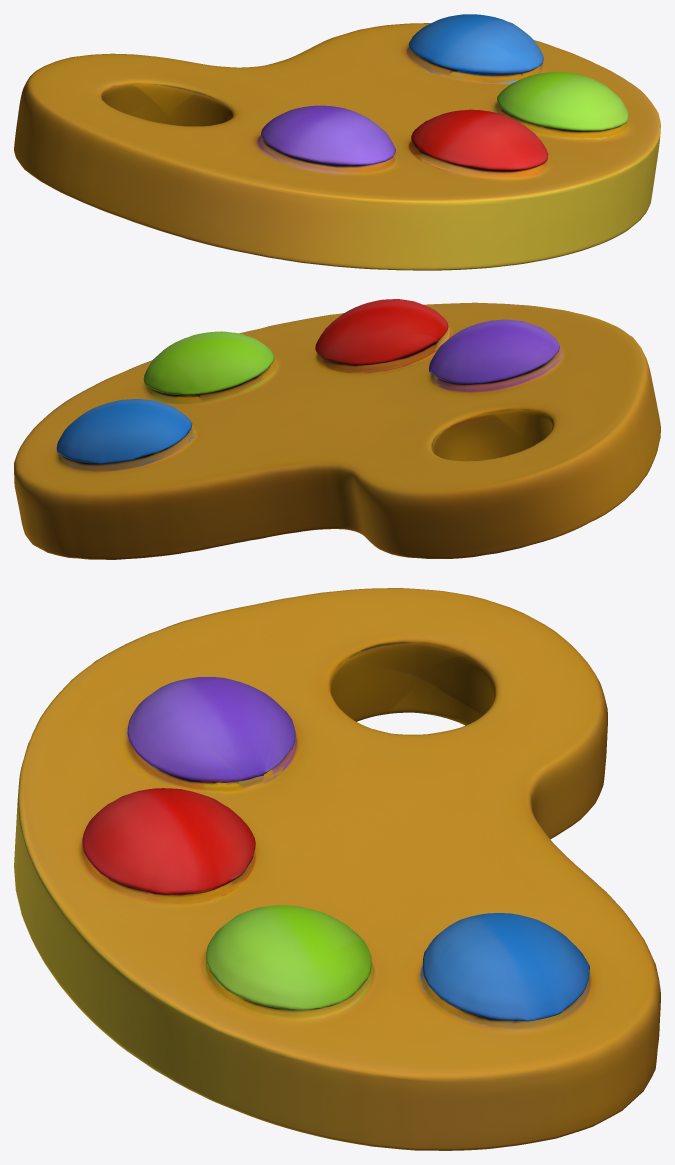
File: Paint Pallete.fbx
3 renders of one model, top to bottom at view 1: azimuth 30°, elevation 25°; view 2: azimuth 150°, elevation 25°; view 3: azimuth 270°, elevation 25°, orthographic. The views are drawn at different scales.
Visible parts, largest first — view 1: Paint Pallete; view 2: Paint Pallete; view 3: Paint Pallete.
Boxes of the visible parts, left/top/right/bottom form: Paint Pallete: left=14, top=14, right=660, bottom=270; Paint Pallete: left=14, top=299, right=660, bottom=559; Paint Pallete: left=14, top=588, right=660, bottom=1150.
Bounding box in the file's own units: 69.11 × 21.03 × 52.68.
